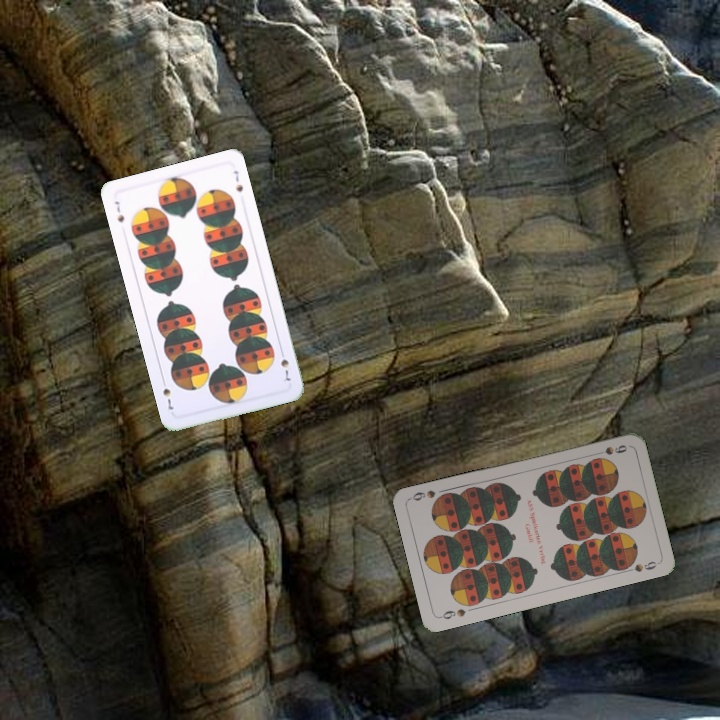S7: (276, 345, 293, 384), (110, 197, 127, 225)
S9: (590, 441, 629, 458), (436, 605, 469, 622)
